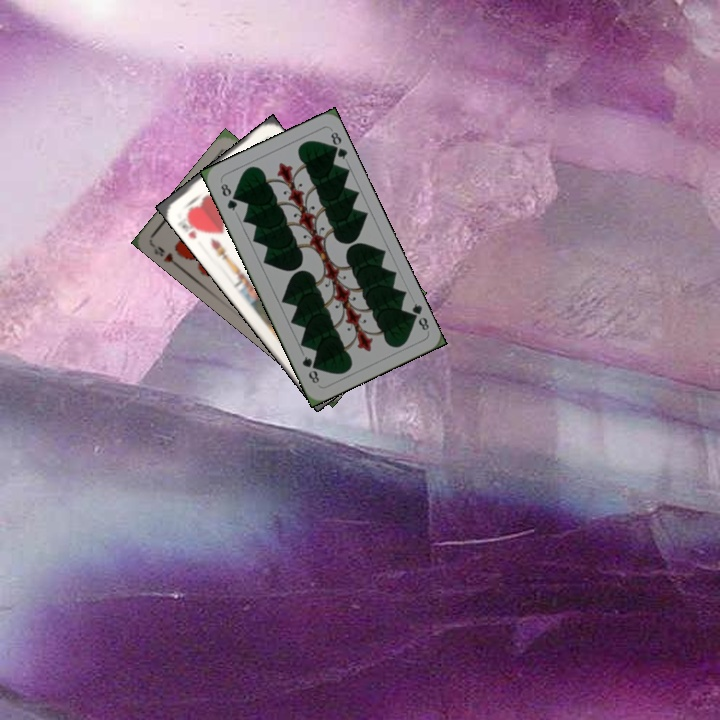G8: (404, 299, 432, 333), (216, 179, 240, 214)
H9: (150, 242, 183, 271)
HK: (178, 209, 205, 241)
